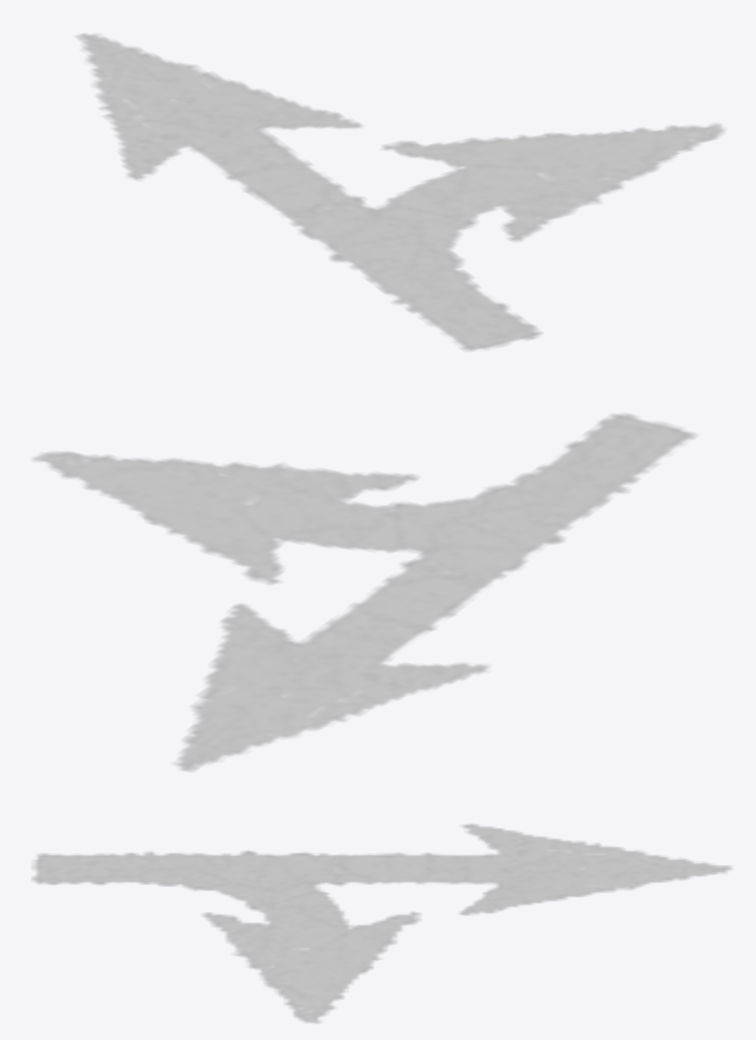
Rendered from q-downtown-decal-arrowforwardright.glb.
3 views of the same model, one above another, from view 1: azimuth 30°, elevation 25°; view 2: azimuth 150°, elevation 25°; view 3: azimuth 270°, elevation 25° (orthographic). The views are drawn at different scales.
Parts seen in each view (by area): view 1: Decal_ArrowForwardRight; view 2: Decal_ArrowForwardRight; view 3: Decal_ArrowForwardRight.
Boxes of the visible parts, left/top/right/bottom form: Decal_ArrowForwardRight: left=76, top=33, right=723, bottom=351; Decal_ArrowForwardRight: left=33, top=414, right=695, bottom=771; Decal_ArrowForwardRight: left=32, top=824, right=732, bottom=1023.
Bounding box in the file's own units: 1.78 × 0 × 2.67.
Materials: 1 (1 with a texture image).
